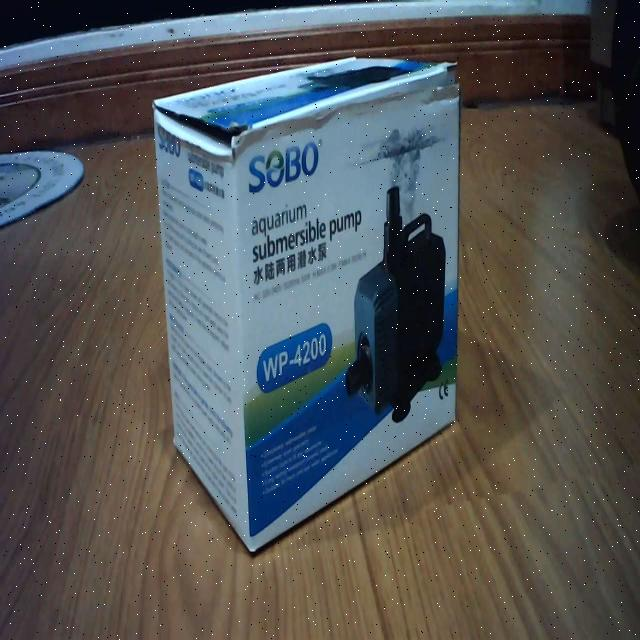SOBO_WP_4200: (153, 54, 461, 558)
